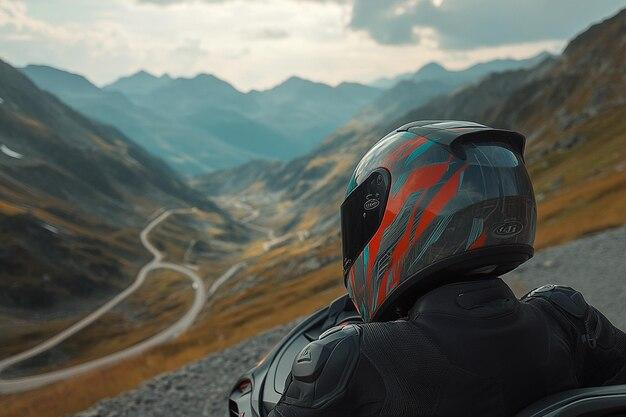Helmet: (341, 119, 536, 321)
